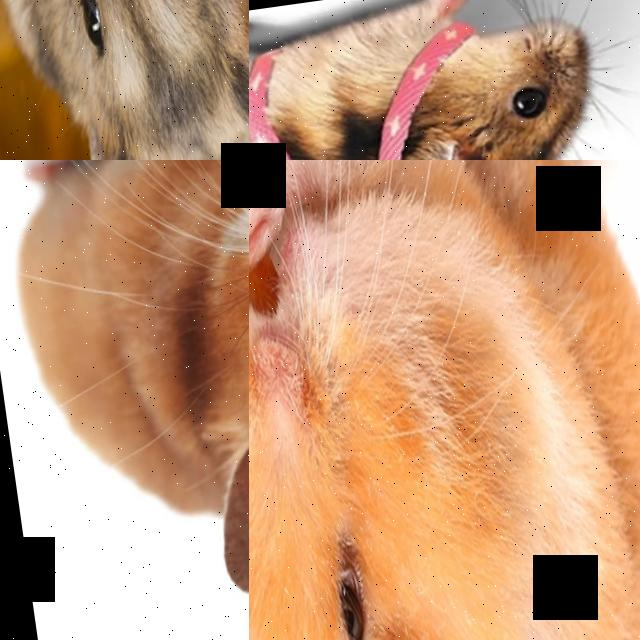hamster: (249, 160, 640, 640), (0, 160, 249, 626), (249, 0, 629, 160), (0, 0, 249, 160)
